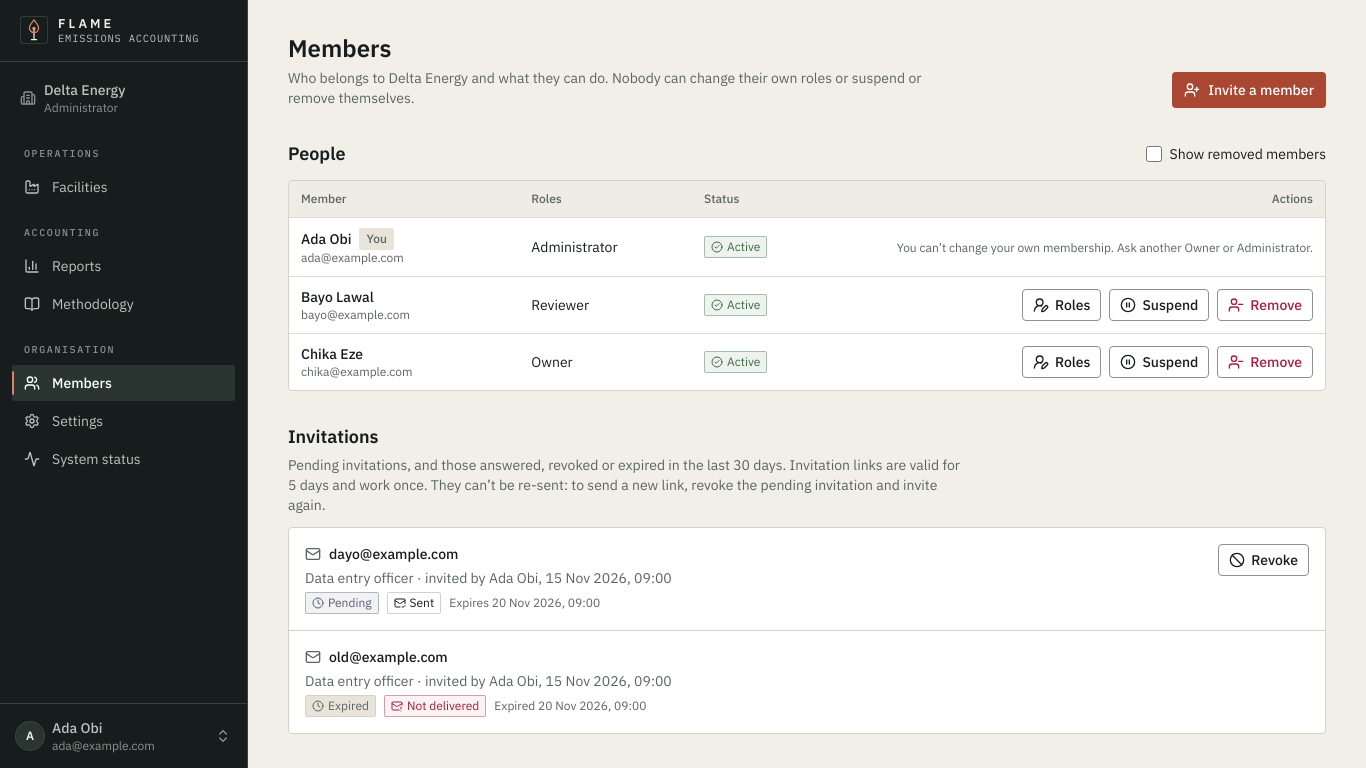
Test: the members page › shows invitation delivery and expiry, and revokes after confirmation
Expected: the text "dayo@example.com" is shown, [305,544,458,562]
Expected: the text "can’t be re-sent" is shown, [288,456,960,514]
What coordinates should you click on to do the following:
click the button with aria-label "Revoke the invitation to dayo@example.com"
I would click on:
 (1264, 560)
Its box is [1218,544,1309,576].
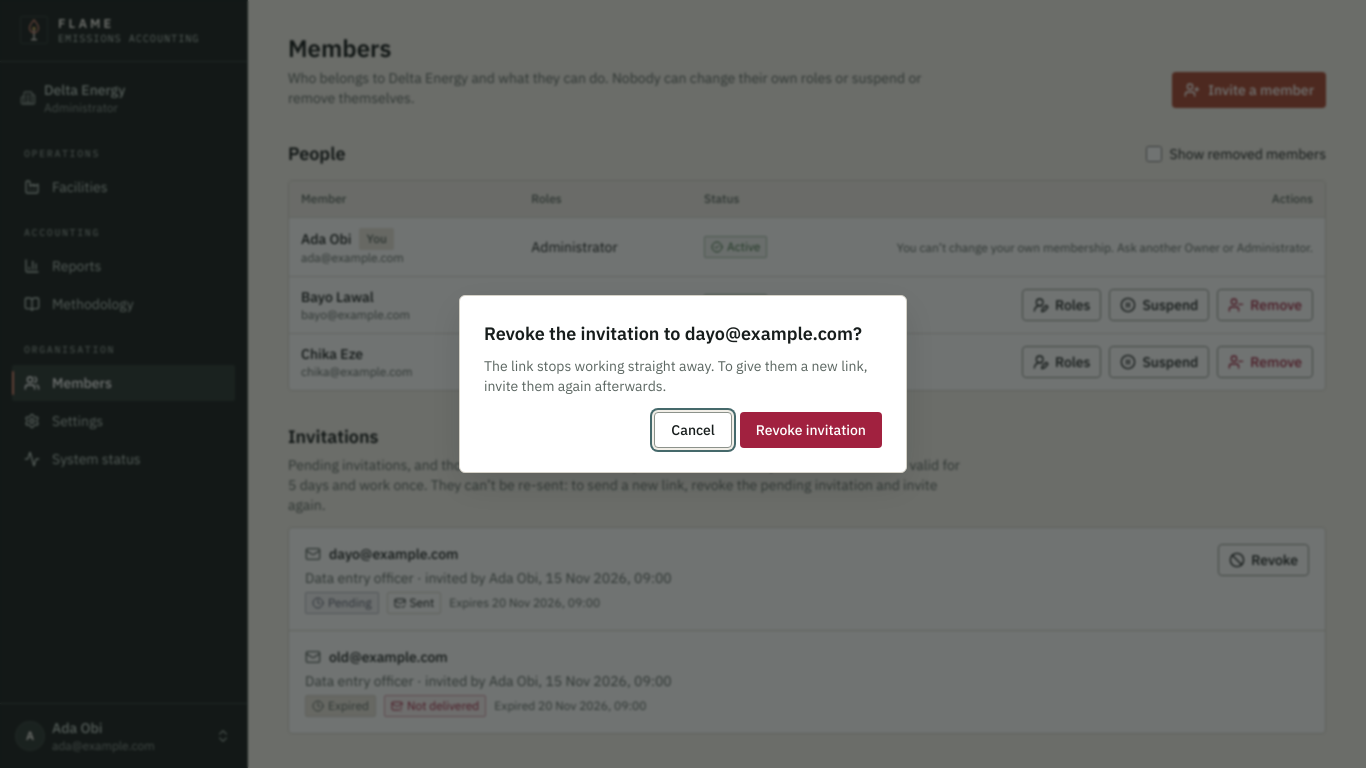
Expected: the dialog shows "The link stops working", [484,357,868,395]
What coordinates should you click on to do the following:
click the button "Revoke invitation"
I would click on:
 (811, 430)
Its box is [740,412,882,448].
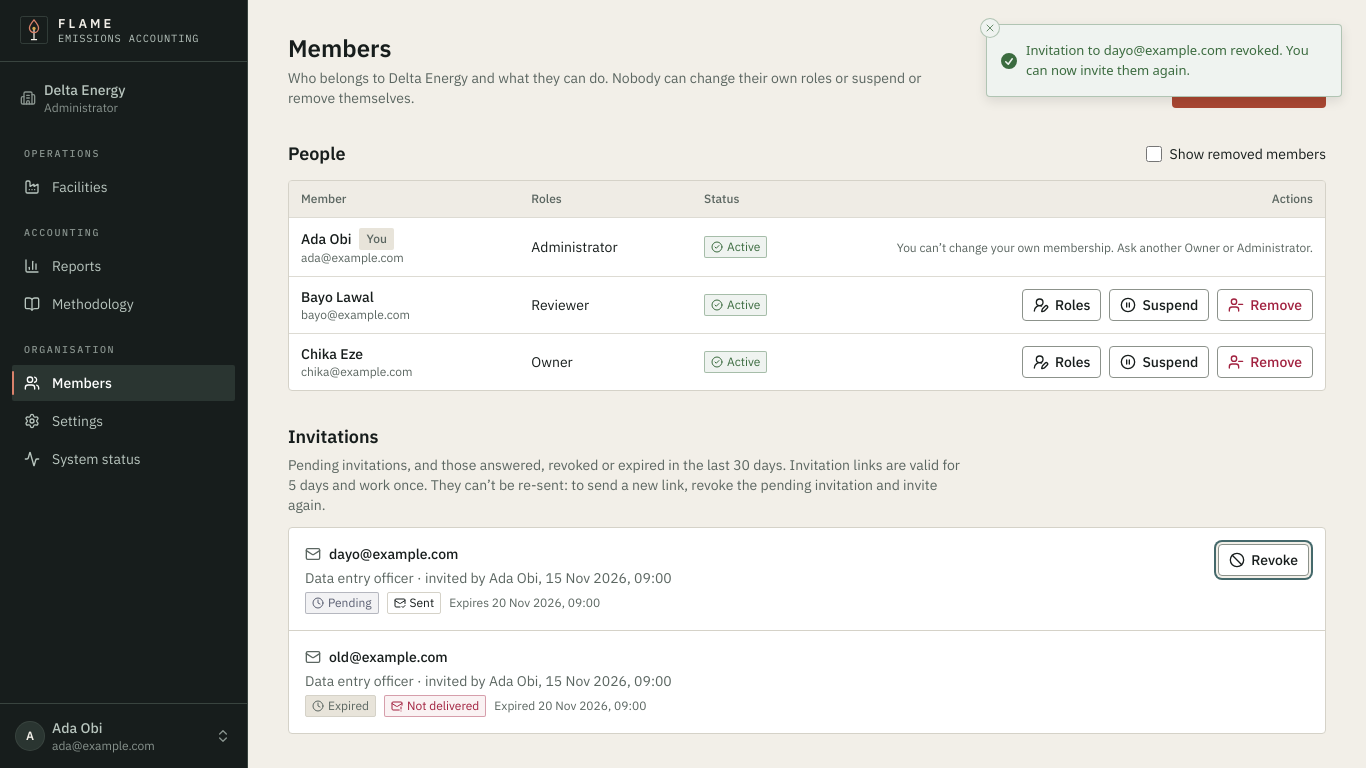
Expected: the text "revoked. You can now invite them again" is shown, [1026,41,1309,78]
